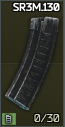9x39 SR3M.130 30-round magazine: (0, 0, 65, 127)
